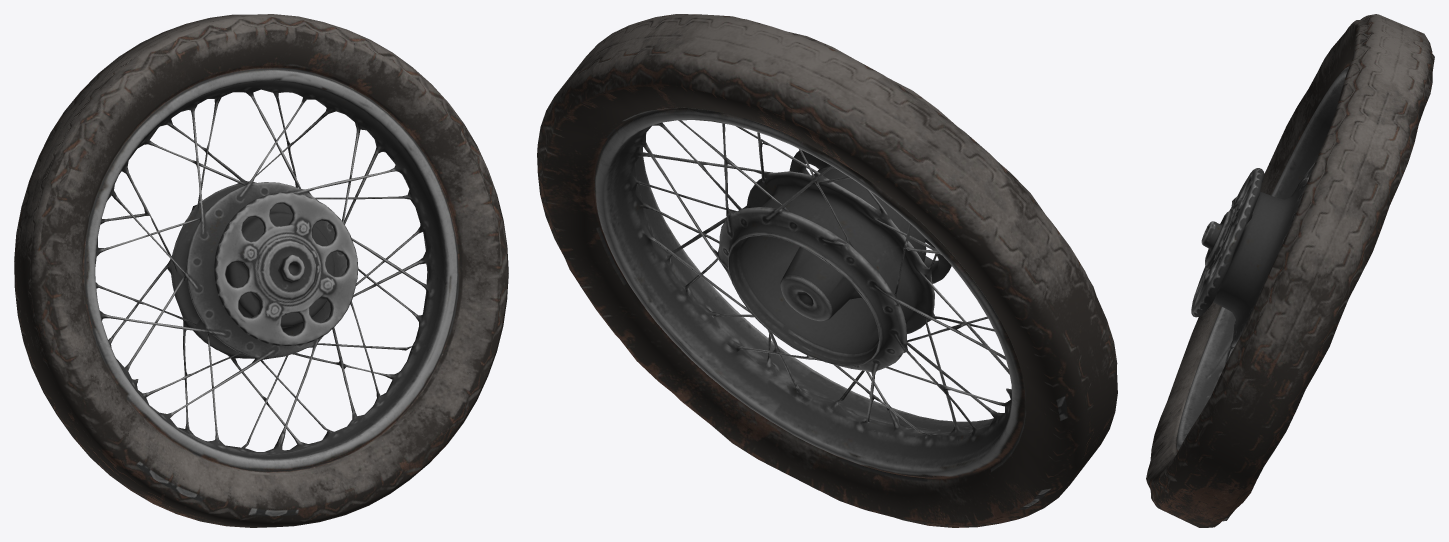
File: motorcycle_wheel.glb
The picture shows the model from 3 angles, left to right: view 1: azimuth 30°, elevation 25°; view 2: azimuth 150°, elevation 25°; view 3: azimuth 270°, elevation 25°; orthographic projection. The views are drawn at different scales.
Visible parts, largest first — view 1: 1_low; view 2: 1_low; view 3: 1_low.
Boxes of the visible parts, x1=… form: 1_low: x1=14, y1=14, x2=508, y2=527; 1_low: x1=537, y1=14, x2=1117, y2=527; 1_low: x1=1146, y1=14, x2=1434, y2=527.
Bounding box in the file's own units: 2.36 × 2.22 × 1.25.
1 material, 1 textured.
